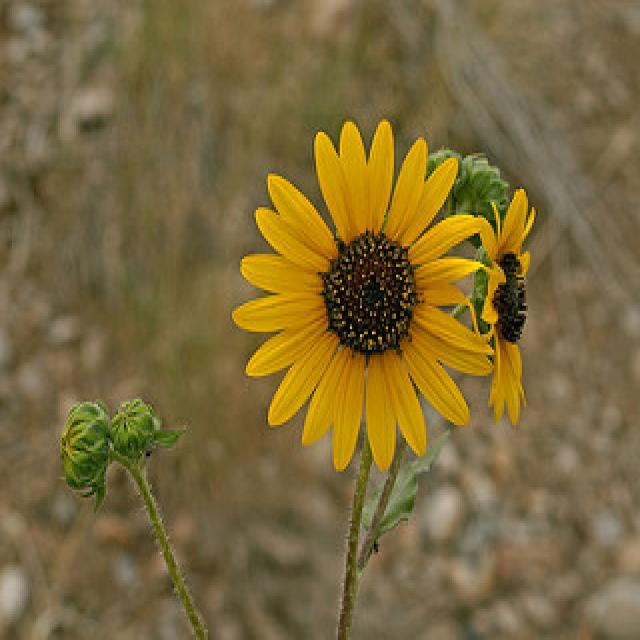sunflower: (231, 113, 494, 481), (464, 182, 542, 428)
